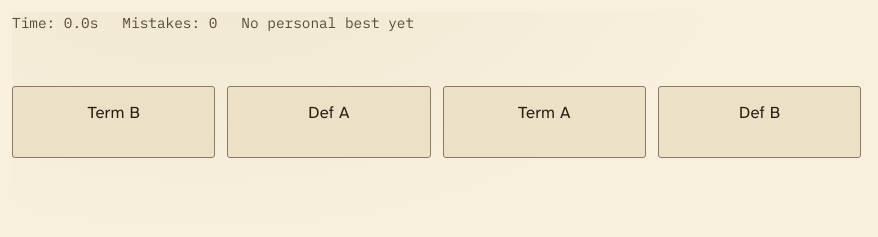
Scenario: MatchSession › completes a round, records a personal best, and offers Play again
The image size is (878, 237).
Click the button "Term B" at (114, 122), box [12,86,215,158]
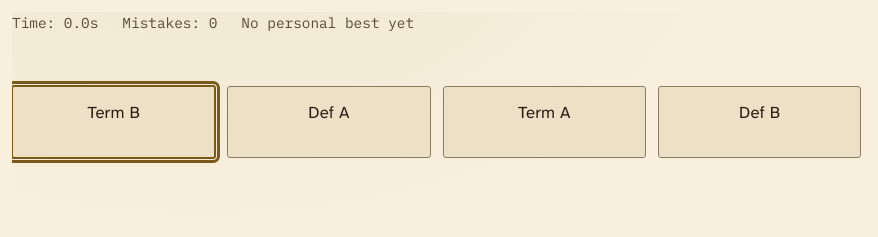
Click the button "Def B" at (760, 122), box [658,86,861,158]
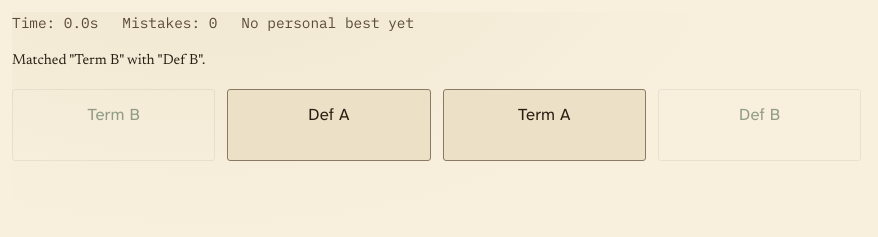
Click the button "Term A" at (544, 125), box [443,89,646,161]
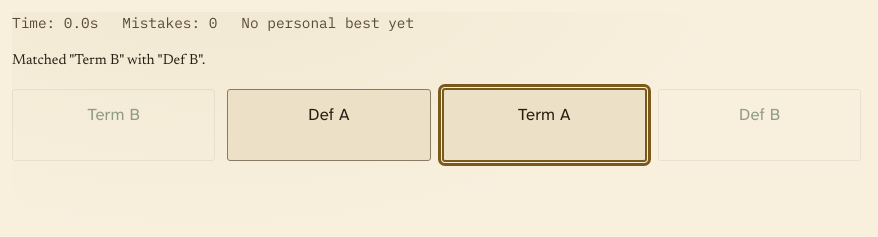
Click the button "Def A" at (329, 125), box [227,89,431,161]
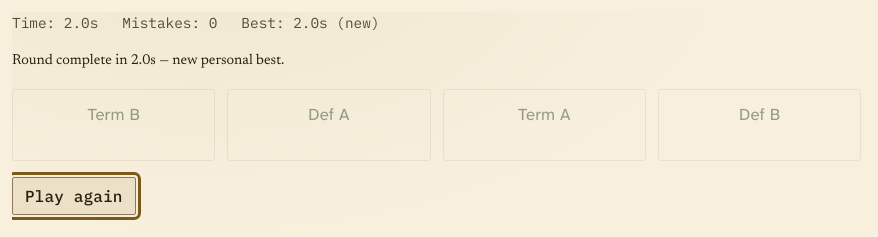
Now the text "Round complete in 2.0s — new personal best." is shown, box [12,53,284,68]
Now the text "Best: 2.0s (new)" is shown, box [241,12,380,34]
Now the button "Play again" is shown, box [12,177,136,215]
